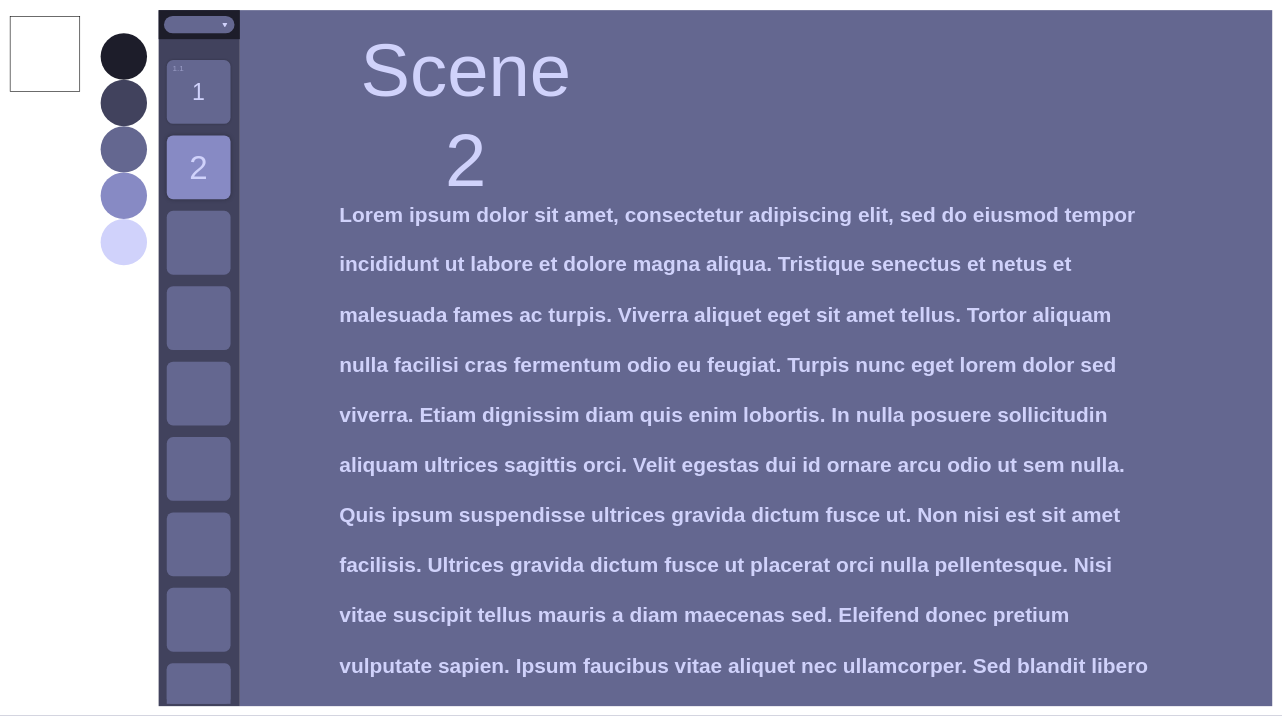
This 1282x716 diagram has some shape labels left out. The centre of each missing label's shape, as x and y in pixels:
"- Scene - Sequence - Act - Story" goes at point 45,53.
"Sequences" goes at point 199,24.
